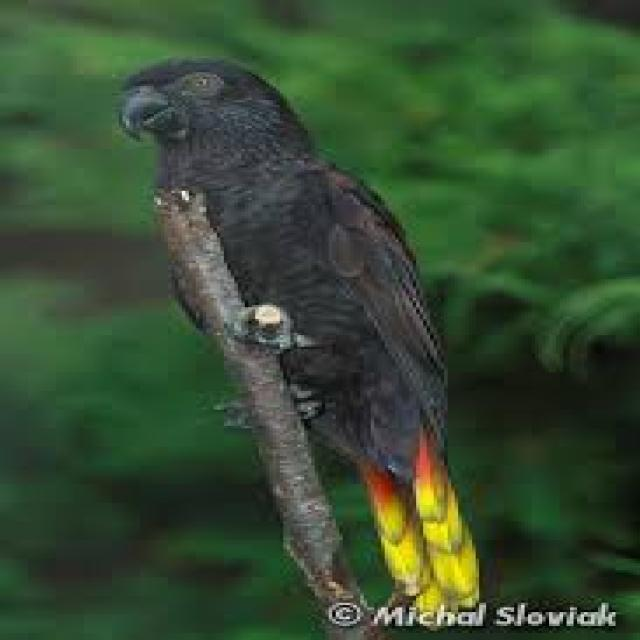Nuri Hitam: (93, 45, 514, 631)
